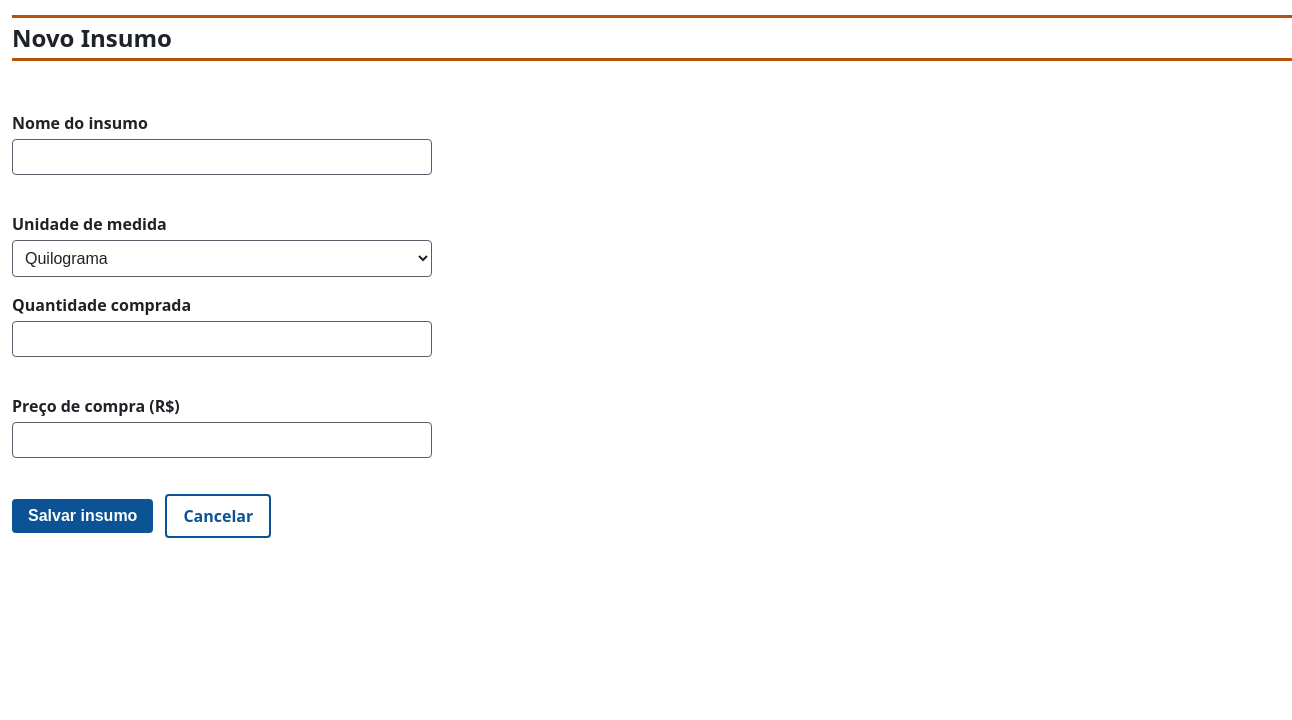
Scenario: InsumoForm (Modo Criação) › (c) erro 400 mockado do axios exibe mensagem no campo quantidade
In the field labelled "Nome do insumo": (222, 157) [12, 139, 432, 175], type "Açúcar"
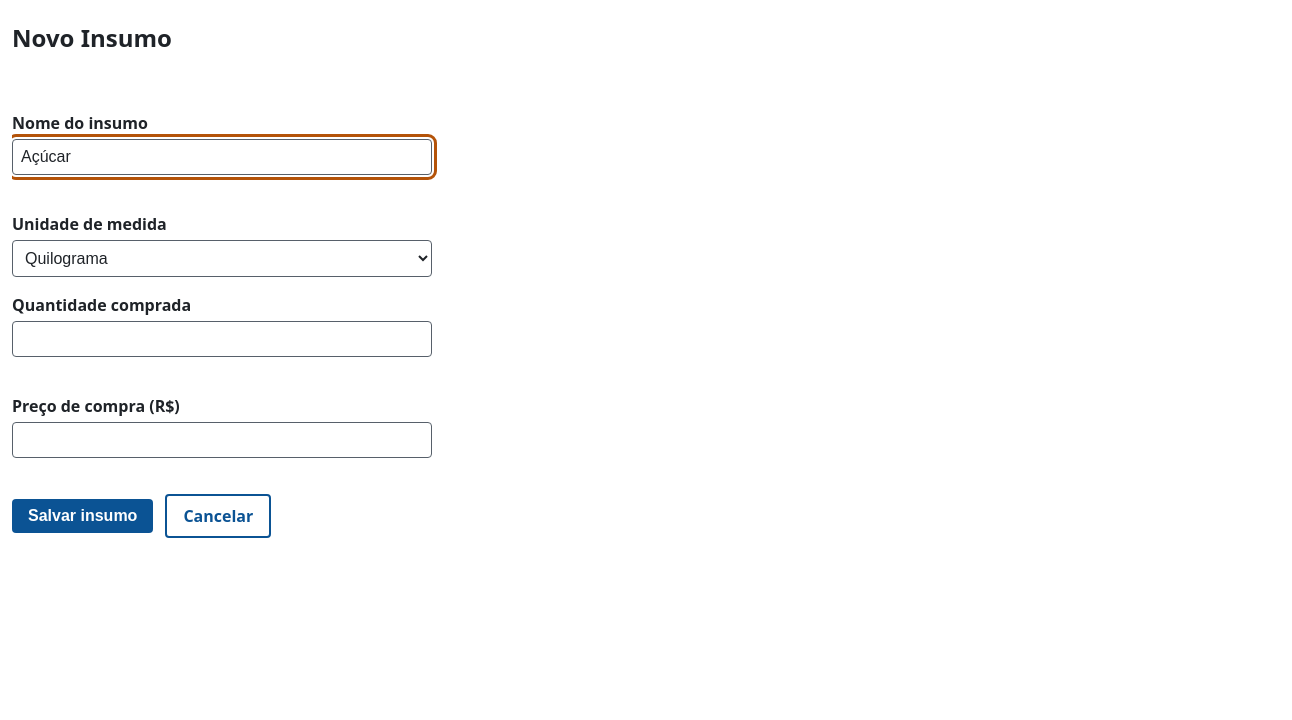
In the number field labelled "Quantidade comprada": (222, 339) [12, 321, 432, 357], type "0"
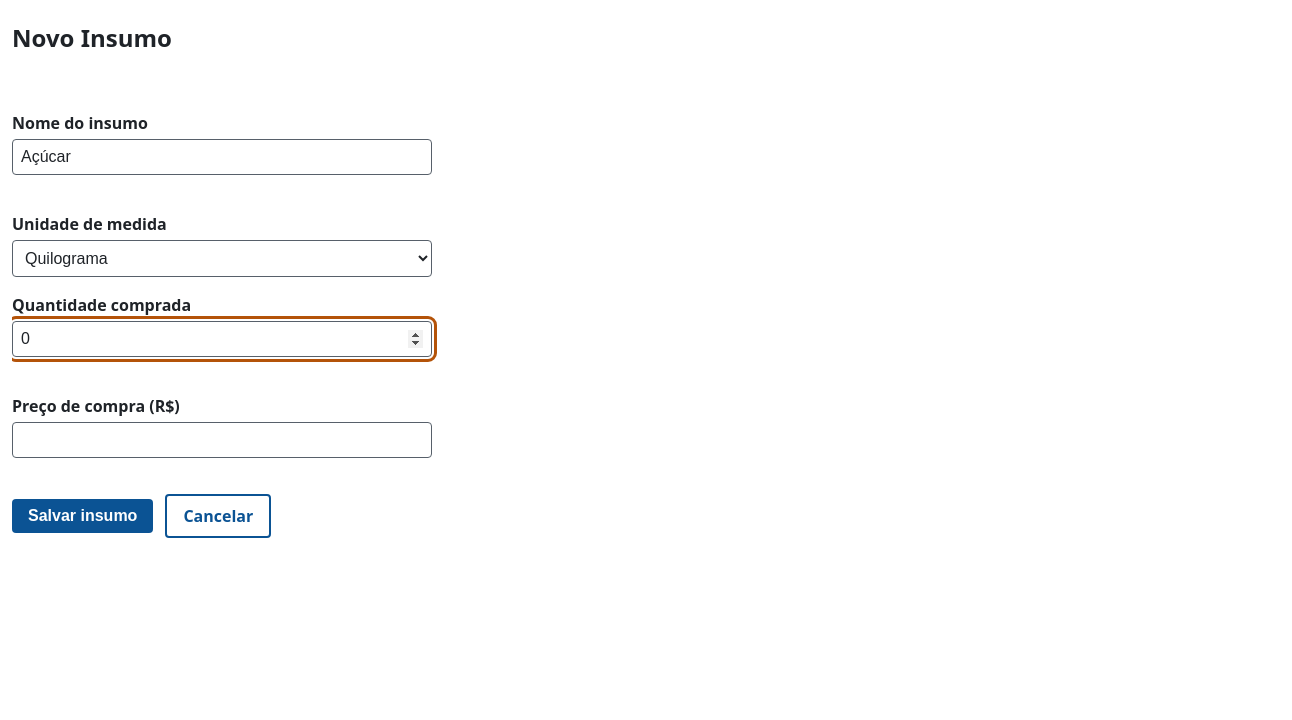
Click the button "Salvar insumo": (83, 516) [12, 499, 153, 533]
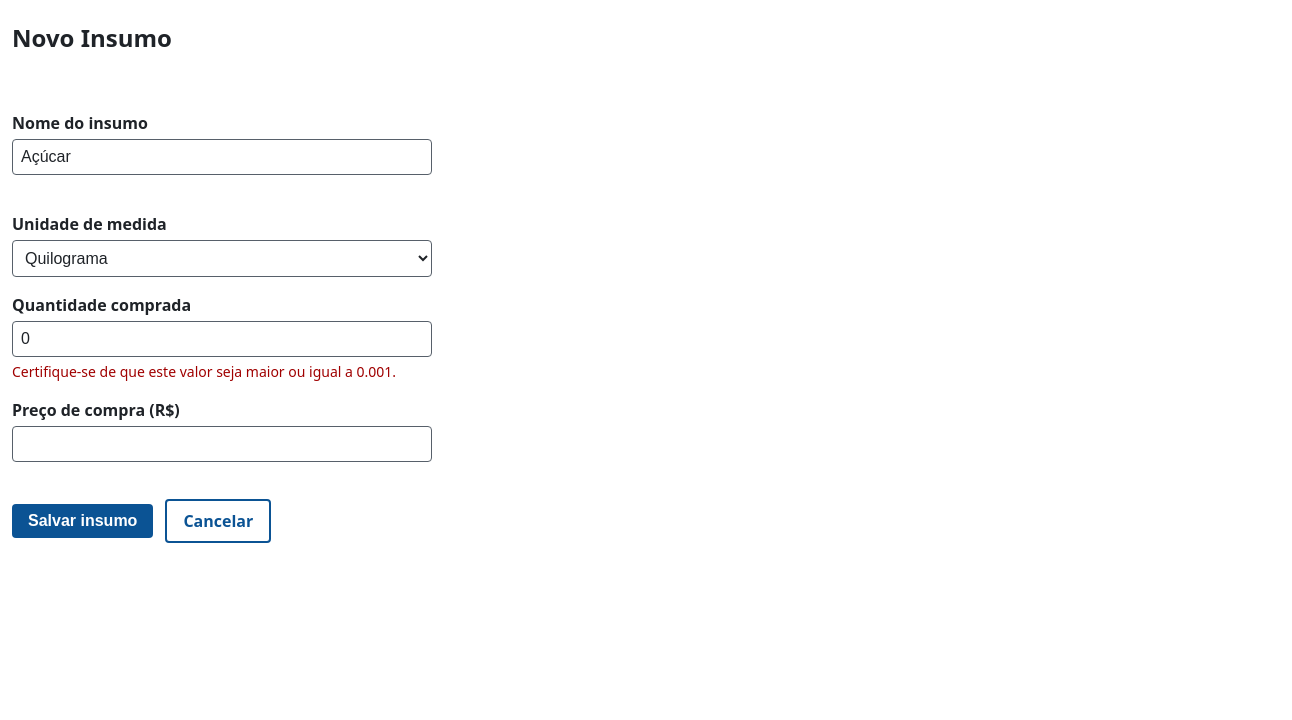
expect the text "Certifique-se de que este valor seja maior ou igual a 0.001." is shown: met, box [12, 361, 432, 382]
